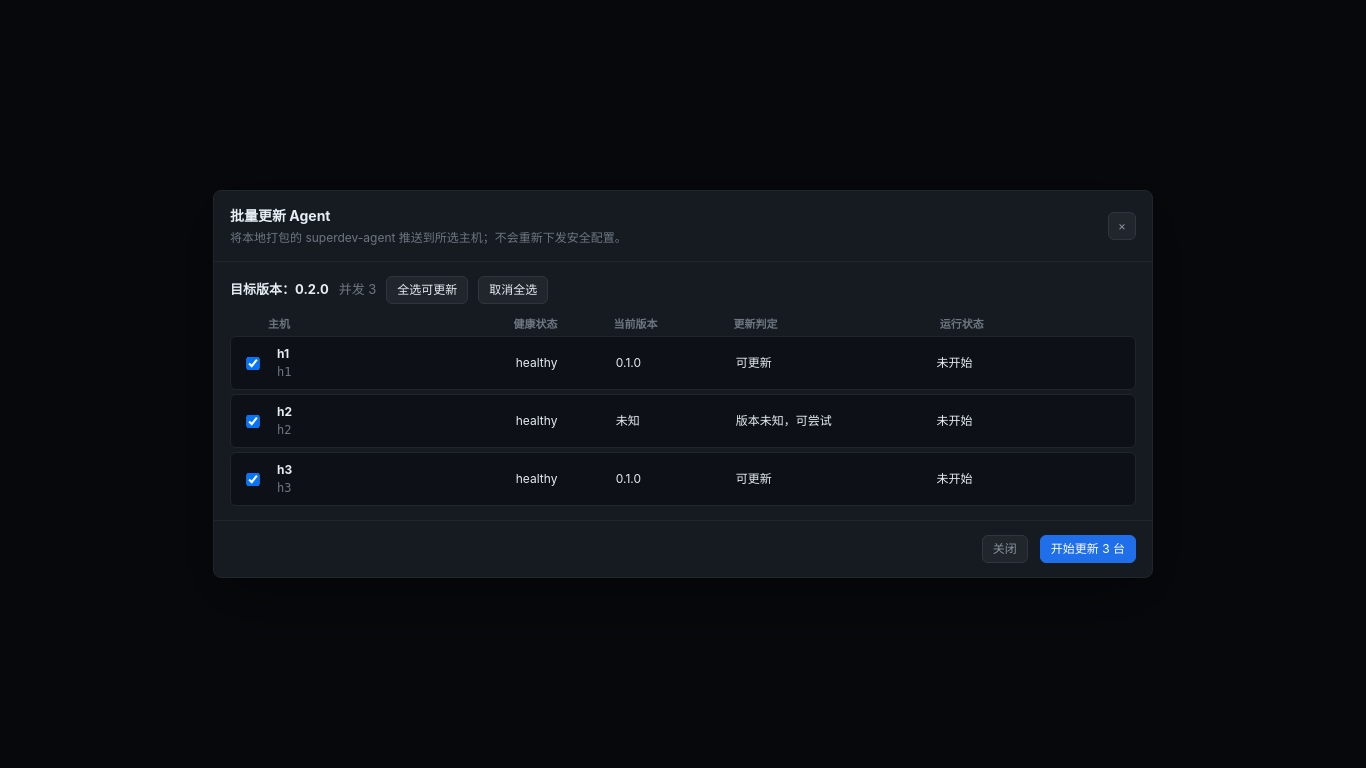
it: AgentBulkUpdateModal › runs selected updates and keeps later rows after a failure
Click the button with test id "bulk-update-start" at (1088, 549), box [1040, 535, 1136, 563]
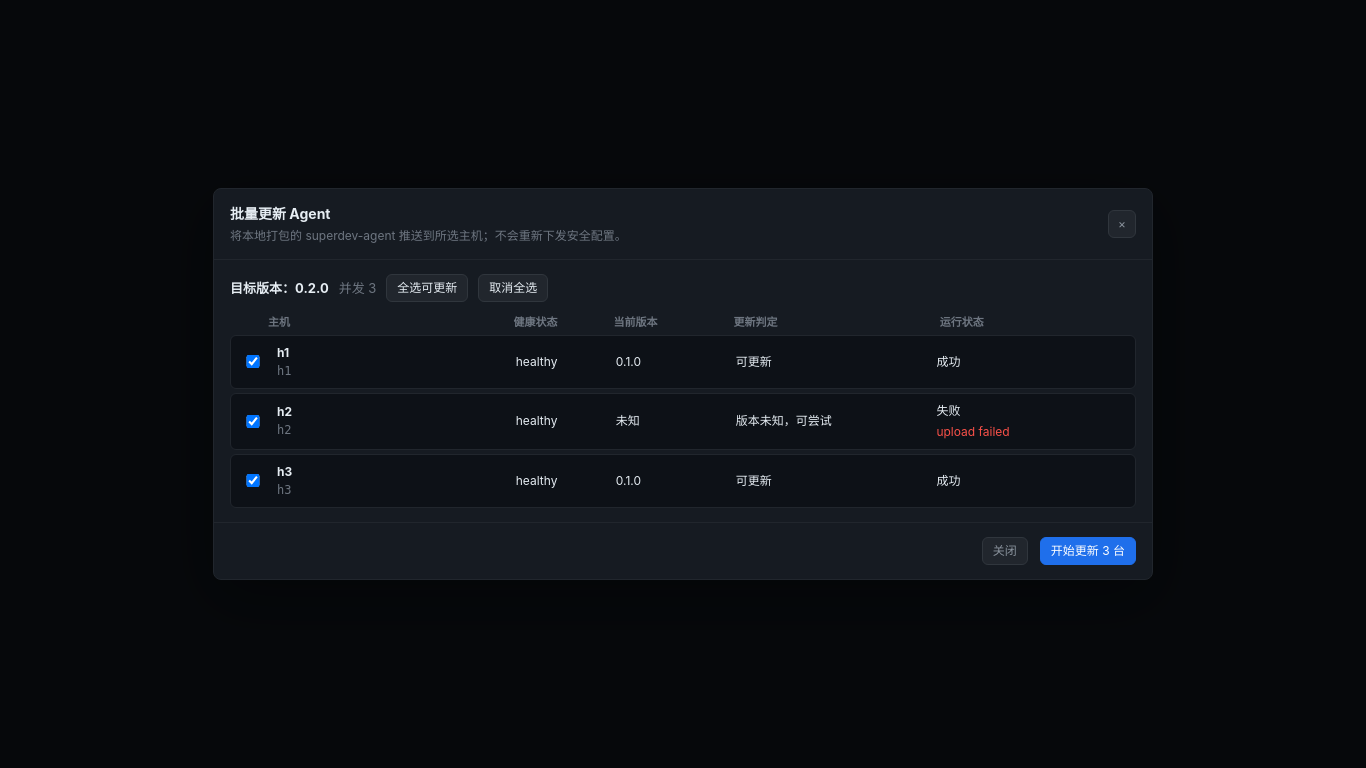
Result: the element with test id "bulk-update-row-h1" shows "成功" at [936, 354, 960, 369]
Result: the element with test id "bulk-update-row-h2" shows "失败" at [936, 403, 960, 418]
Result: the element with test id "bulk-update-row-h2" shows "upload failed" at [936, 424, 1010, 439]
